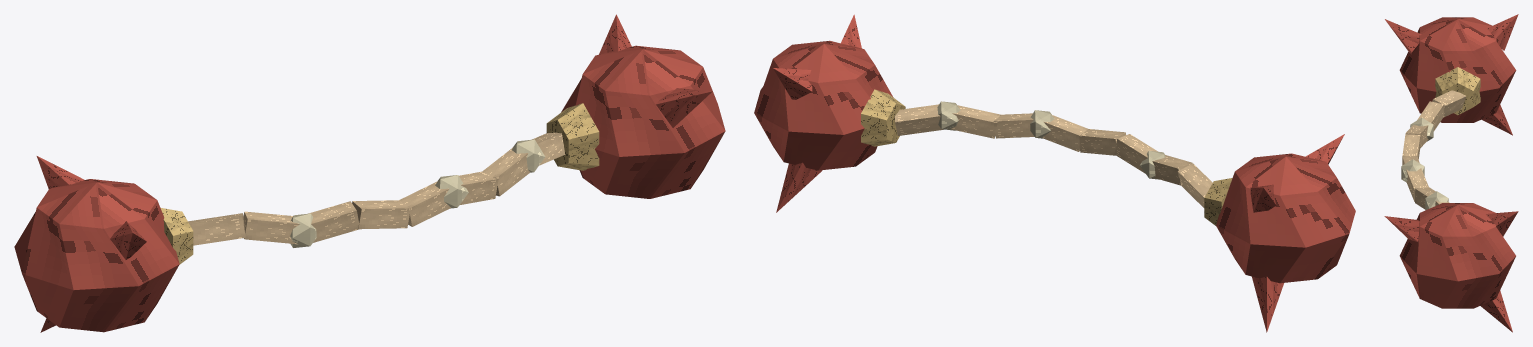
Rendered from proj_bolas.gltf.
3 renders of one model, left to right at view 1: azimuth 30°, elevation 25°; view 2: azimuth 150°, elevation 25°; view 3: azimuth 270°, elevation 25°, orthographic. The views are drawn at different scales.
Visible parts, largest first — view 1: balls, cord; view 2: balls, cord; view 3: balls, cord.
Boxes of the visible parts, x1=… form: balls: x1=14, y1=14, x2=725, y2=332; cord: x1=188, y1=132, x2=565, y2=247; balls: x1=754, y1=14, x2=1355, y2=332; cord: x1=894, y1=101, x2=1212, y2=207; balls: x1=1384, y1=14, x2=1518, y2=332; cord: x1=1401, y1=90, x2=1466, y2=210.
Size of the model in its own units: 0.816 by 0.1966 by 0.1958.
Materials: 2 (2 with a texture image).
